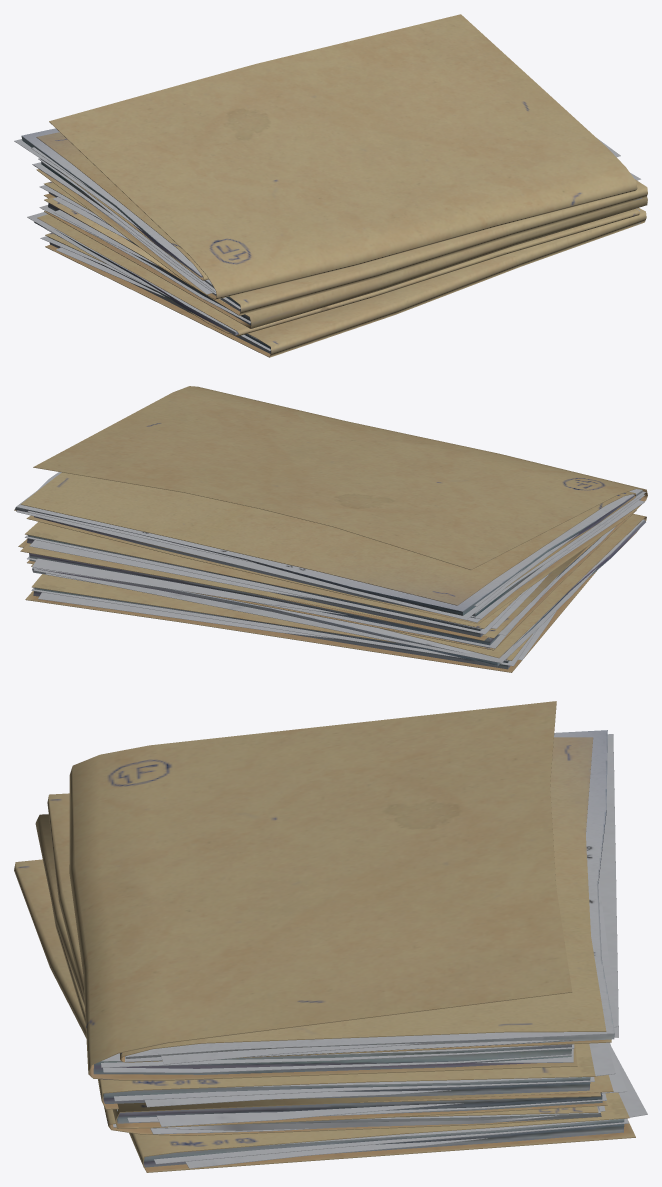
The model's file is SM_Folder_Stack_01g.fbx.
3 renders of one model, top to bottom at view 1: azimuth 30°, elevation 25°; view 2: azimuth 150°, elevation 25°; view 3: azimuth 270°, elevation 25°, orthographic. The views are drawn at different scales.
Parts seen in each view (by area): view 1: SM_Folder_Stack_01g_LOD0; view 2: SM_Folder_Stack_01g_LOD0; view 3: SM_Folder_Stack_01g_LOD0.
Boxes of the visible parts, <box> form: SM_Folder_Stack_01g_LOD0: <box>14,14,647,357</box>; SM_Folder_Stack_01g_LOD0: <box>14,386,647,672</box>; SM_Folder_Stack_01g_LOD0: <box>14,701,647,1172</box>.
Bounding box in the file's own units: 33.86 × 26.65 × 7.7.
Materials: 1 (1 with a texture image).
